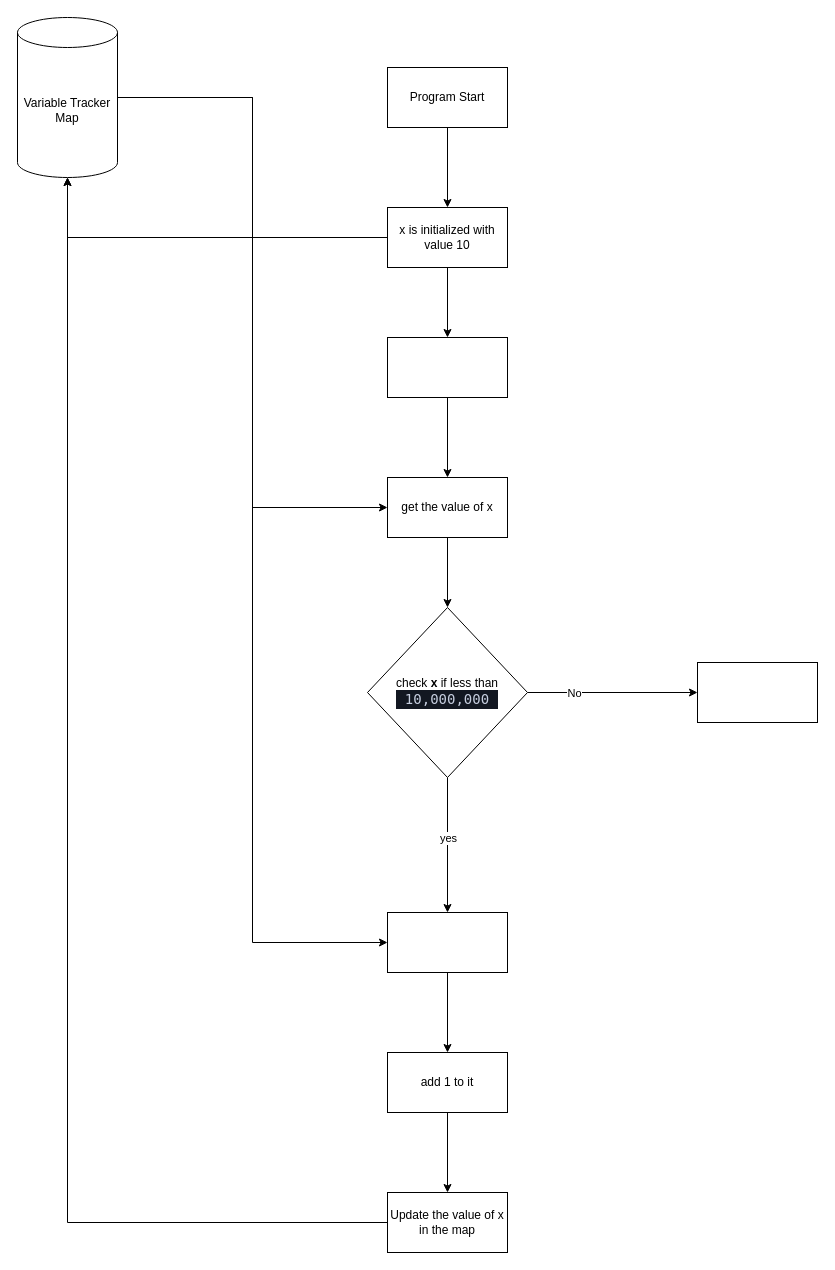
Image size: 835x1270. Some labels were removed from this diagram. The shapes that lost their labels are listed below. From the top down, each one's box as (x1, y1, x2, y2) in pixels, then its label:
(386, 336, 508, 398): for loop started
(696, 662, 818, 722): End the program
(386, 912, 508, 972): Get the value of x again!
